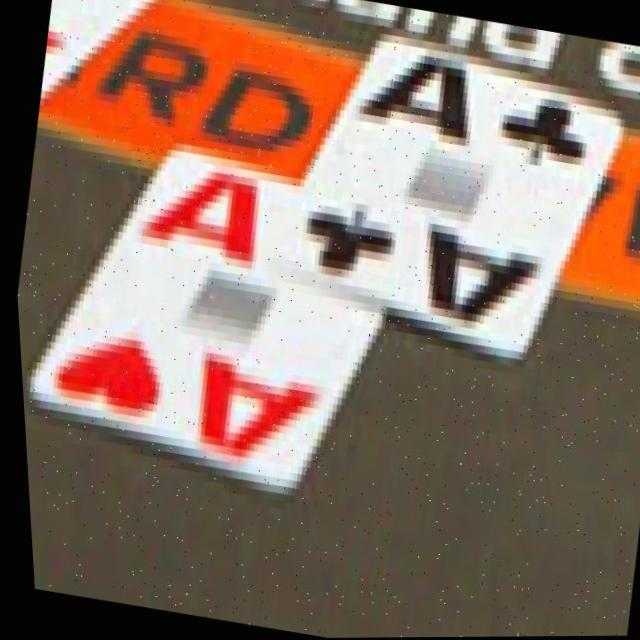Card-A: (23, 147, 380, 491), (271, 36, 622, 357)
